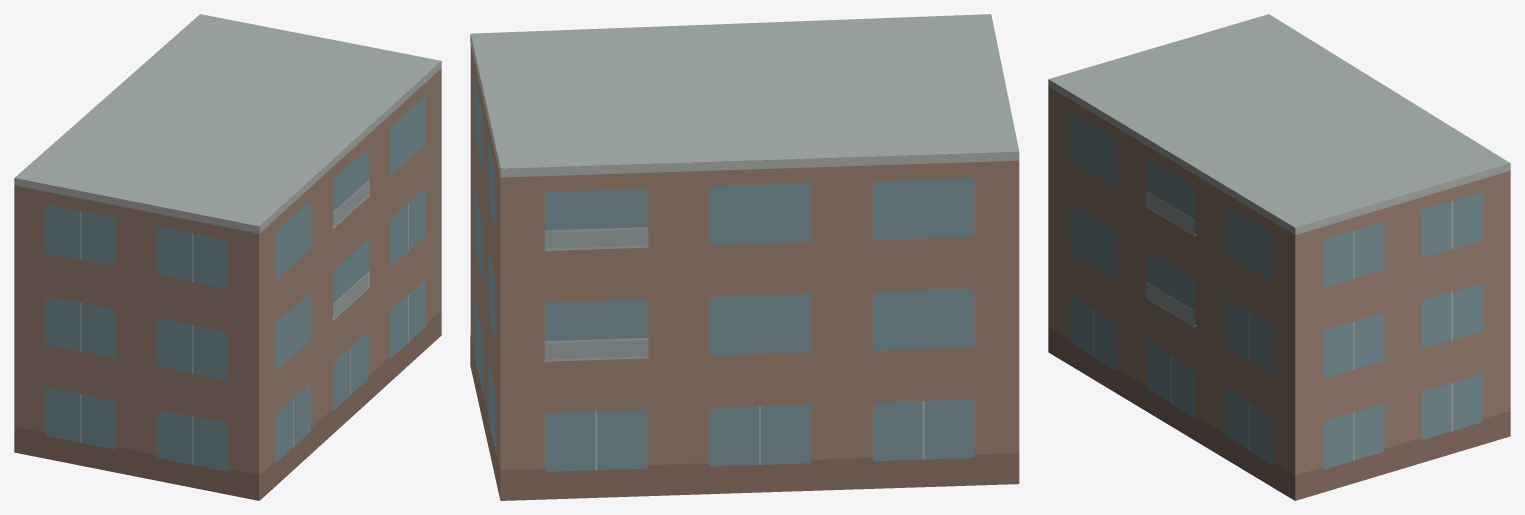
The model's file is survey-upis-33027048.glb.
3 views of the same model, side by side, from view 1: azimuth 30°, elevation 25°; view 2: azimuth 150°, elevation 25°; view 3: azimuth 270°, elevation 25° (orthographic). The views are drawn at different scales.
Parts seen in each view (by area): view 1: survey-upis-33027048.tmp; view 2: survey-upis-33027048.tmp; view 3: survey-upis-33027048.tmp.
Boxes of the visible parts, bbox=[...] form: survey-upis-33027048.tmp: bbox=[14, 14, 441, 500]; survey-upis-33027048.tmp: bbox=[470, 14, 1019, 500]; survey-upis-33027048.tmp: bbox=[1048, 14, 1510, 500].
Size of the model in its own units: 15.37 by 9.15 by 14.05.
